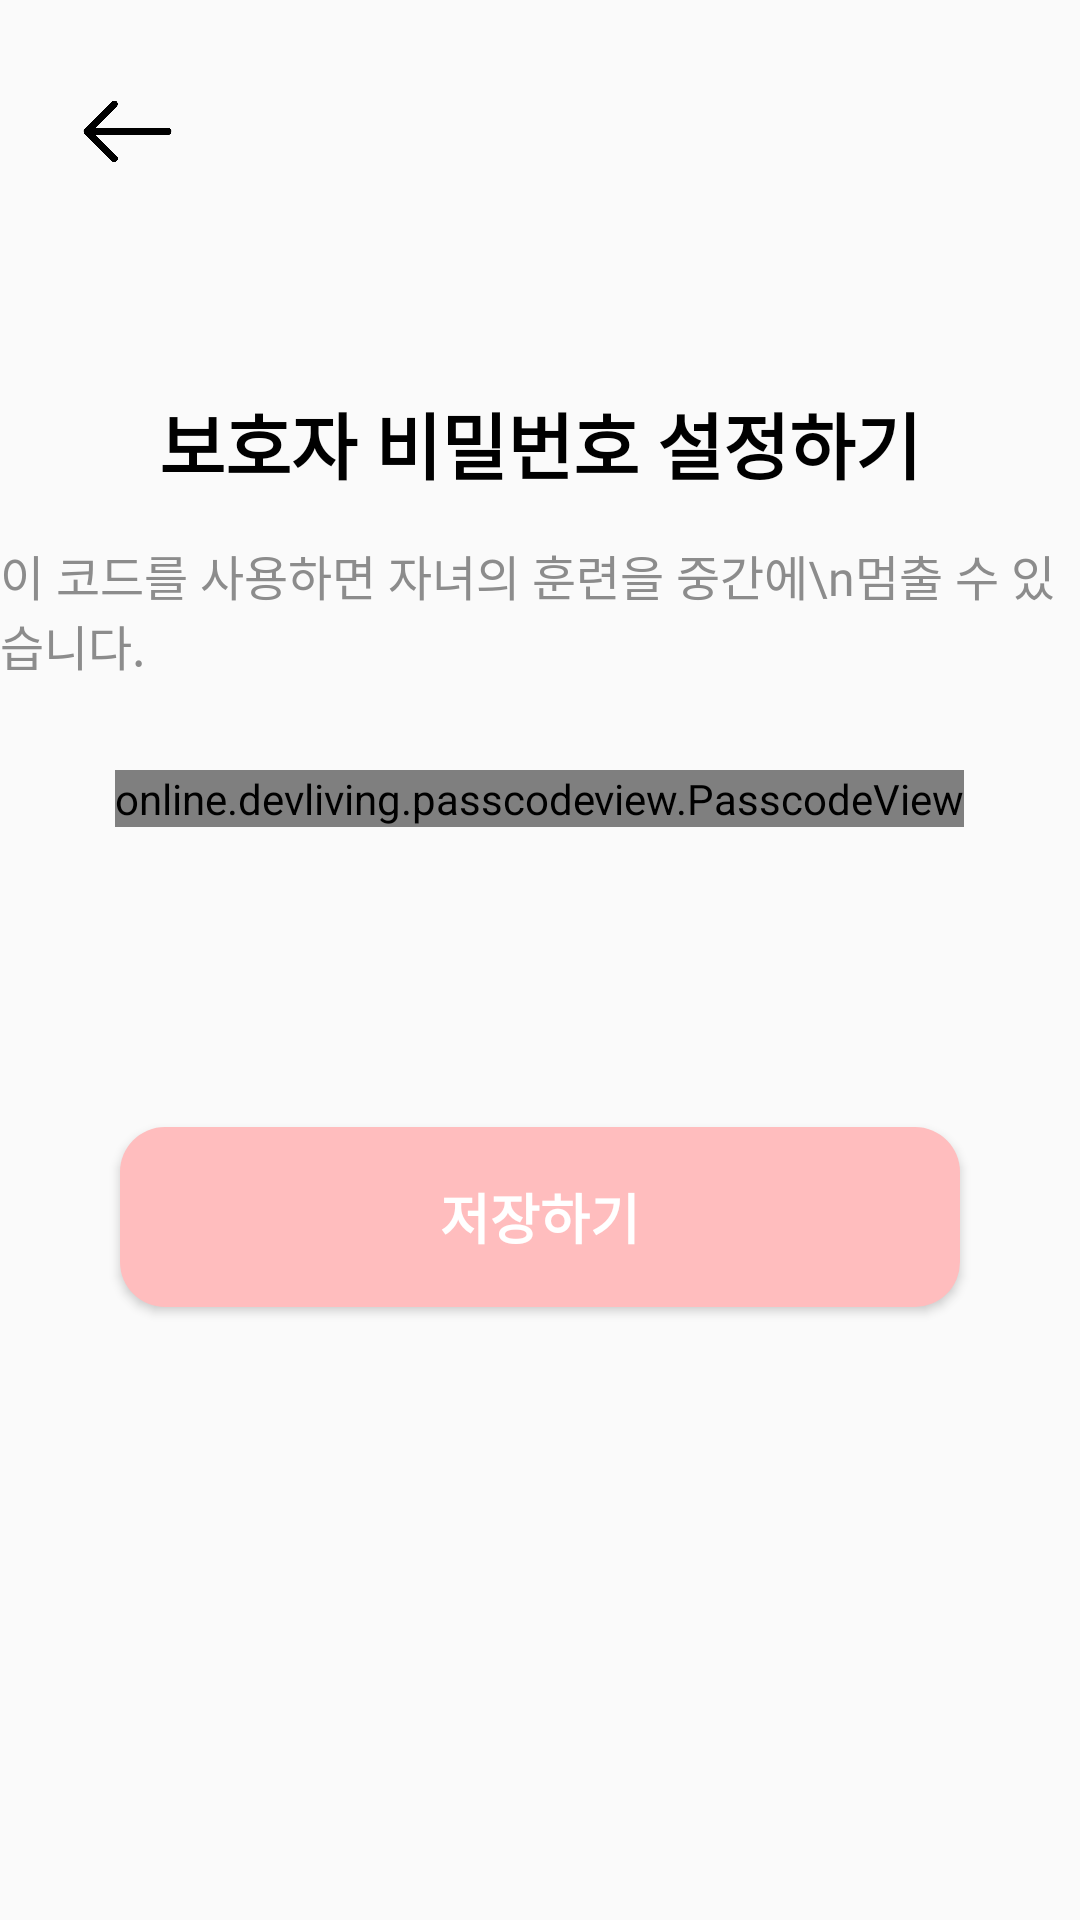

Point at icon controls on the screen. Image size 1080 x 1920, points as (x=x, y=y).
back: (x=127, y=131)
